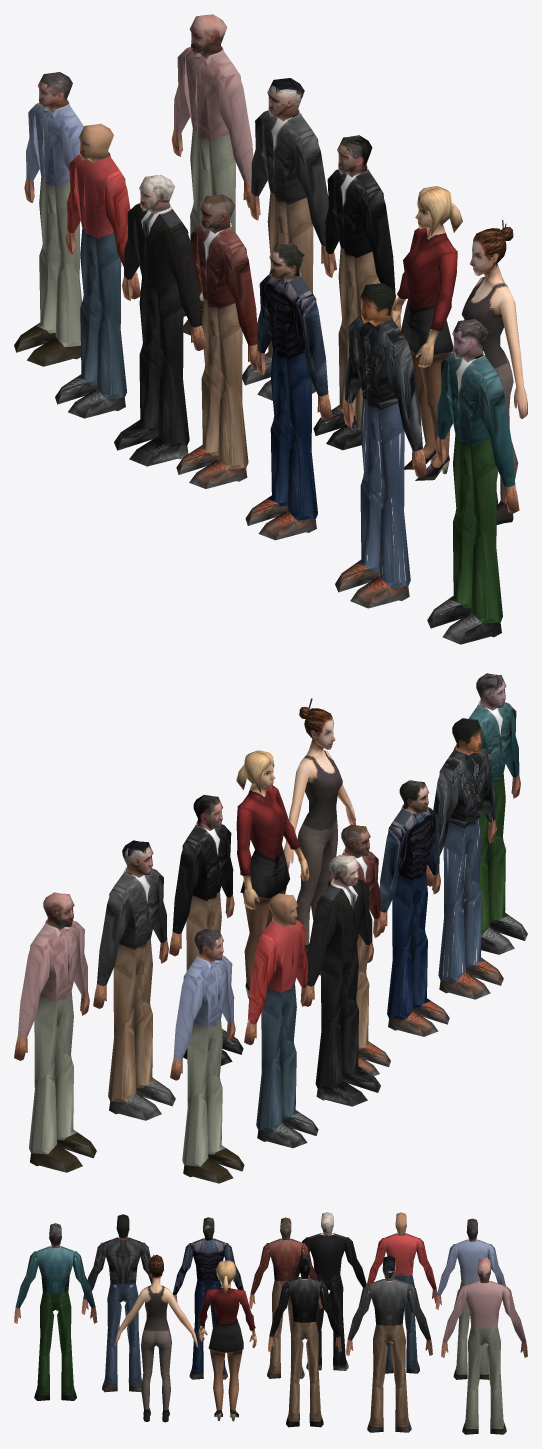
3 views of the same model, one above another, from view 1: azimuth 30°, elevation 25°; view 2: azimuth 150°, elevation 25°; view 3: azimuth 270°, elevation 25° (orthographic). The views are drawn at different scales.
Parts seen in each view (by area): view 1: Object_10_mesh0, Object_11_mesh0, Object_3_mesh0, Object_7_mesh0, Object_8_mesh0, Object_9_mesh0, Object_2_mesh0, Object_23_mesh0, Object_6_mesh0, Object_5_mesh0, Object_4_mesh0, Object_22_mesh0 (+10 smaller); view 2: Object_6_mesh0, Object_4_mesh0, Object_10_mesh0, Object_3_mesh0, Object_7_mesh0, Object_2_mesh0, Object_8_mesh0, Object_23_mesh0, Object_22_mesh0, Object_11_mesh0, Object_5_mesh0, Object_9_mesh0 (+10 smaller); view 3: Object_4_mesh0, Object_6_mesh0, Object_11_mesh0, Object_10_mesh0, Object_5_mesh0, Object_23_mesh0, Object_22_mesh0, Object_3_mesh0, Object_7_mesh0, Object_8_mesh0, Object_2_mesh0, Object_9_mesh0 (+4 smaller).
Part boxes in pixels (x1=…): Object_10_mesh0: x1=335, y1=315, x2=427, y2=608; Object_11_mesh0: x1=427, y1=351, x2=519, y2=644; Object_3_mesh0: x1=114, y1=203, x2=205, y2=466; Object_7_mesh0: x1=245, y1=272, x2=332, y2=540; Object_8_mesh0: x1=55, y1=152, x2=140, y2=418; Object_9_mesh0: x1=176, y1=223, x2=257, y2=488; Object_2_mesh0: x1=14, y1=100, x2=83, y2=366; Object_23_mesh0: x1=390, y1=186, x2=462, y2=480; Object_6_mesh0: x1=171, y1=46, x2=253, y2=335; Object_5_mesh0: x1=313, y1=166, x2=396, y2=450; Object_4_mesh0: x1=242, y1=110, x2=336, y2=400; Object_22_mesh0: x1=452, y1=220, x2=527, y2=524; Object_6_mesh0: x1=14, y1=920, x2=96, y2=1172; Object_4_mesh0: x1=93, y1=868, x2=175, y2=1120; Object_10_mesh0: x1=426, y1=746, x2=503, y2=999; Object_3_mesh0: x1=301, y1=879, x2=380, y2=1106; Object_7_mesh0: x1=379, y1=805, x2=449, y2=1036; Object_2_mesh0: x1=170, y1=953, x2=244, y2=1183; Object_8_mesh0: x1=244, y1=918, x2=318, y2=1148; Object_23_mesh0: x1=236, y1=750, x2=309, y2=998; Object_22_mesh0: x1=283, y1=698, x2=355, y2=957; Object_11_mesh0: x1=468, y1=701, x2=527, y2=954; Object_5_mesh0: x1=169, y1=821, x2=243, y2=1065; Object_9_mesh0: x1=319, y1=849, x2=390, y2=1075; Object_4_mesh0: x1=346, y1=1279, x2=432, y2=1432; Object_6_mesh0: x1=441, y1=1281, x2=527, y2=1434; Object_11_mesh0: x1=14, y1=1246, x2=97, y2=1400; Object_10_mesh0: x1=81, y1=1237, x2=152, y2=1392; Object_5_mesh0: x1=268, y1=1277, x2=341, y2=1427; Object_23_mesh0: x1=198, y1=1260, x2=256, y2=1421; Object_22_mesh0: x1=114, y1=1254, x2=198, y2=1422; Object_3_mesh0: x1=297, y1=1233, x2=366, y2=1370; Object_7_mesh0: x1=172, y1=1238, x2=243, y2=1379; Object_8_mesh0: x1=367, y1=1233, x2=437, y2=1373; Object_2_mesh0: x1=435, y1=1239, x2=505, y2=1379; Object_9_mesh0: x1=249, y1=1238, x2=322, y2=1378.
Size of the model in its own units: 1191 by 1437 by 3787.
Materials: 22 (22 with a texture image).
